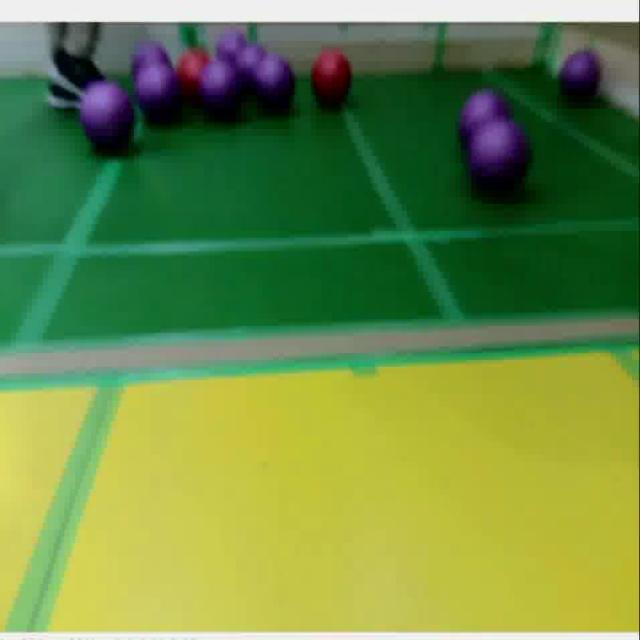purple_ball: (470, 123, 538, 201), (78, 82, 138, 158), (456, 91, 517, 152), (196, 62, 239, 124), (556, 50, 602, 106), (255, 58, 296, 115), (137, 65, 176, 120), (234, 45, 268, 93), (127, 48, 173, 78), (219, 34, 246, 59)
red_ball: (312, 54, 352, 110), (178, 54, 197, 101)
